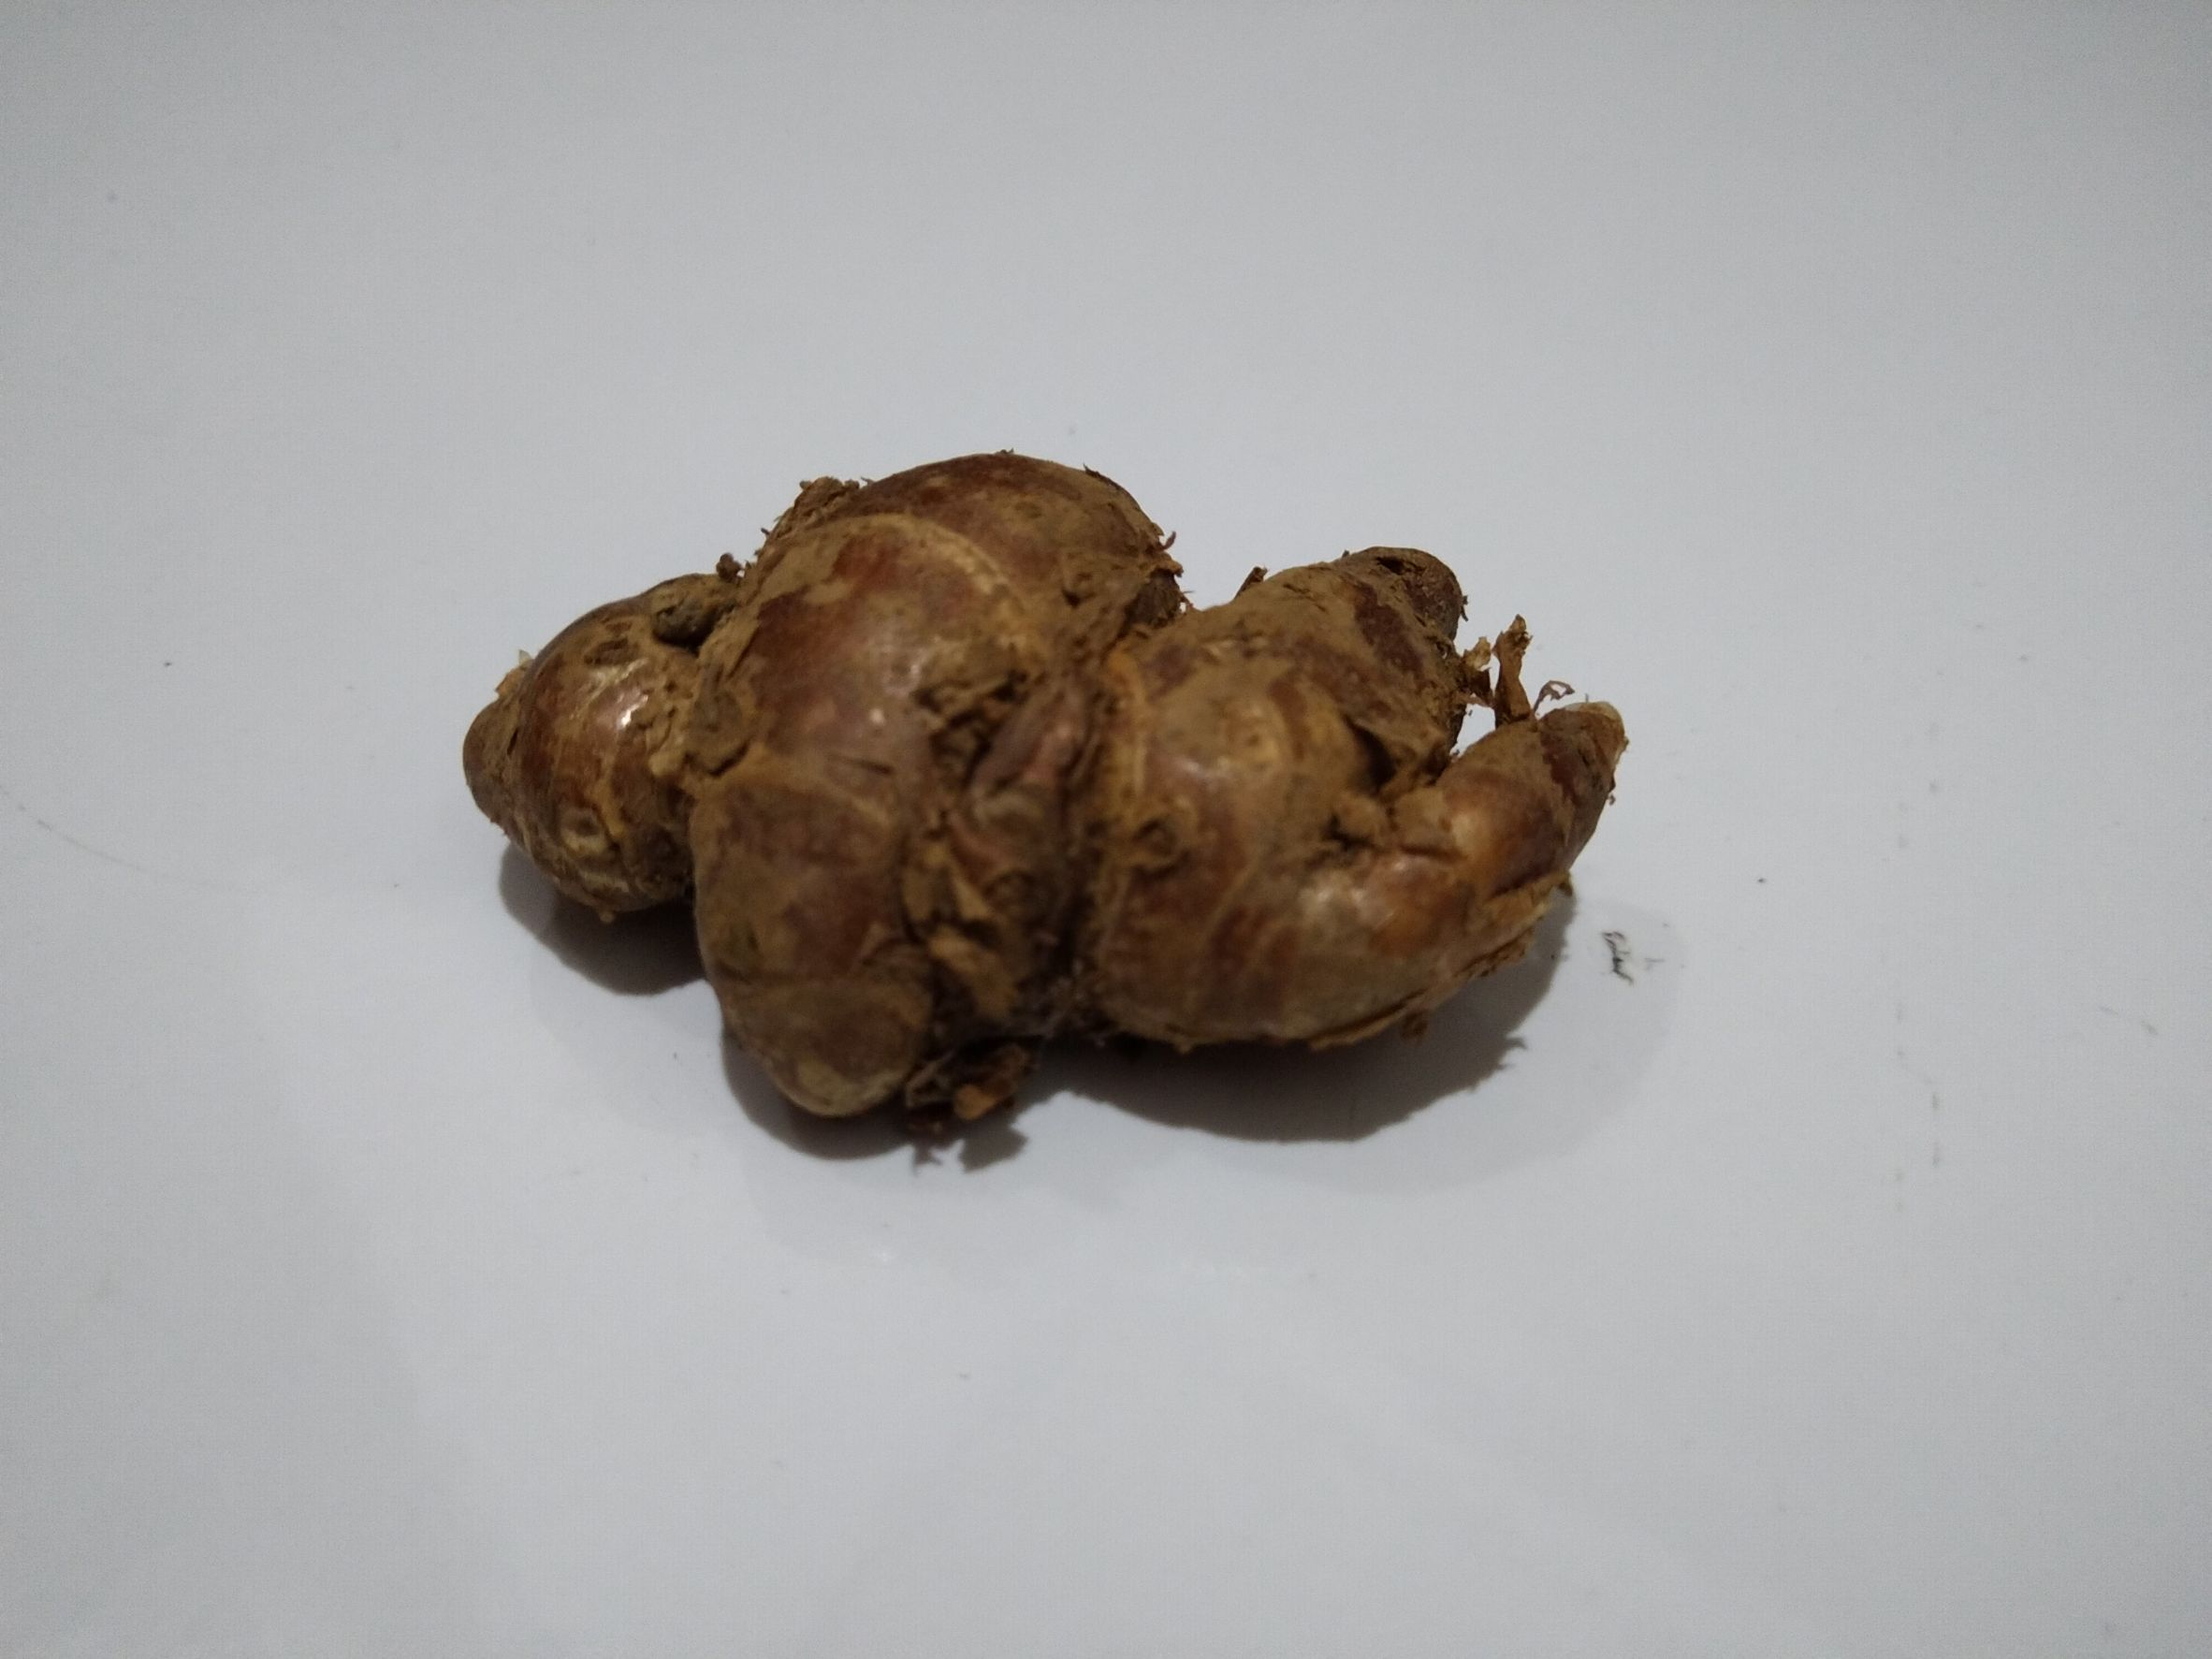Kencur: (462, 464, 1630, 1164)
